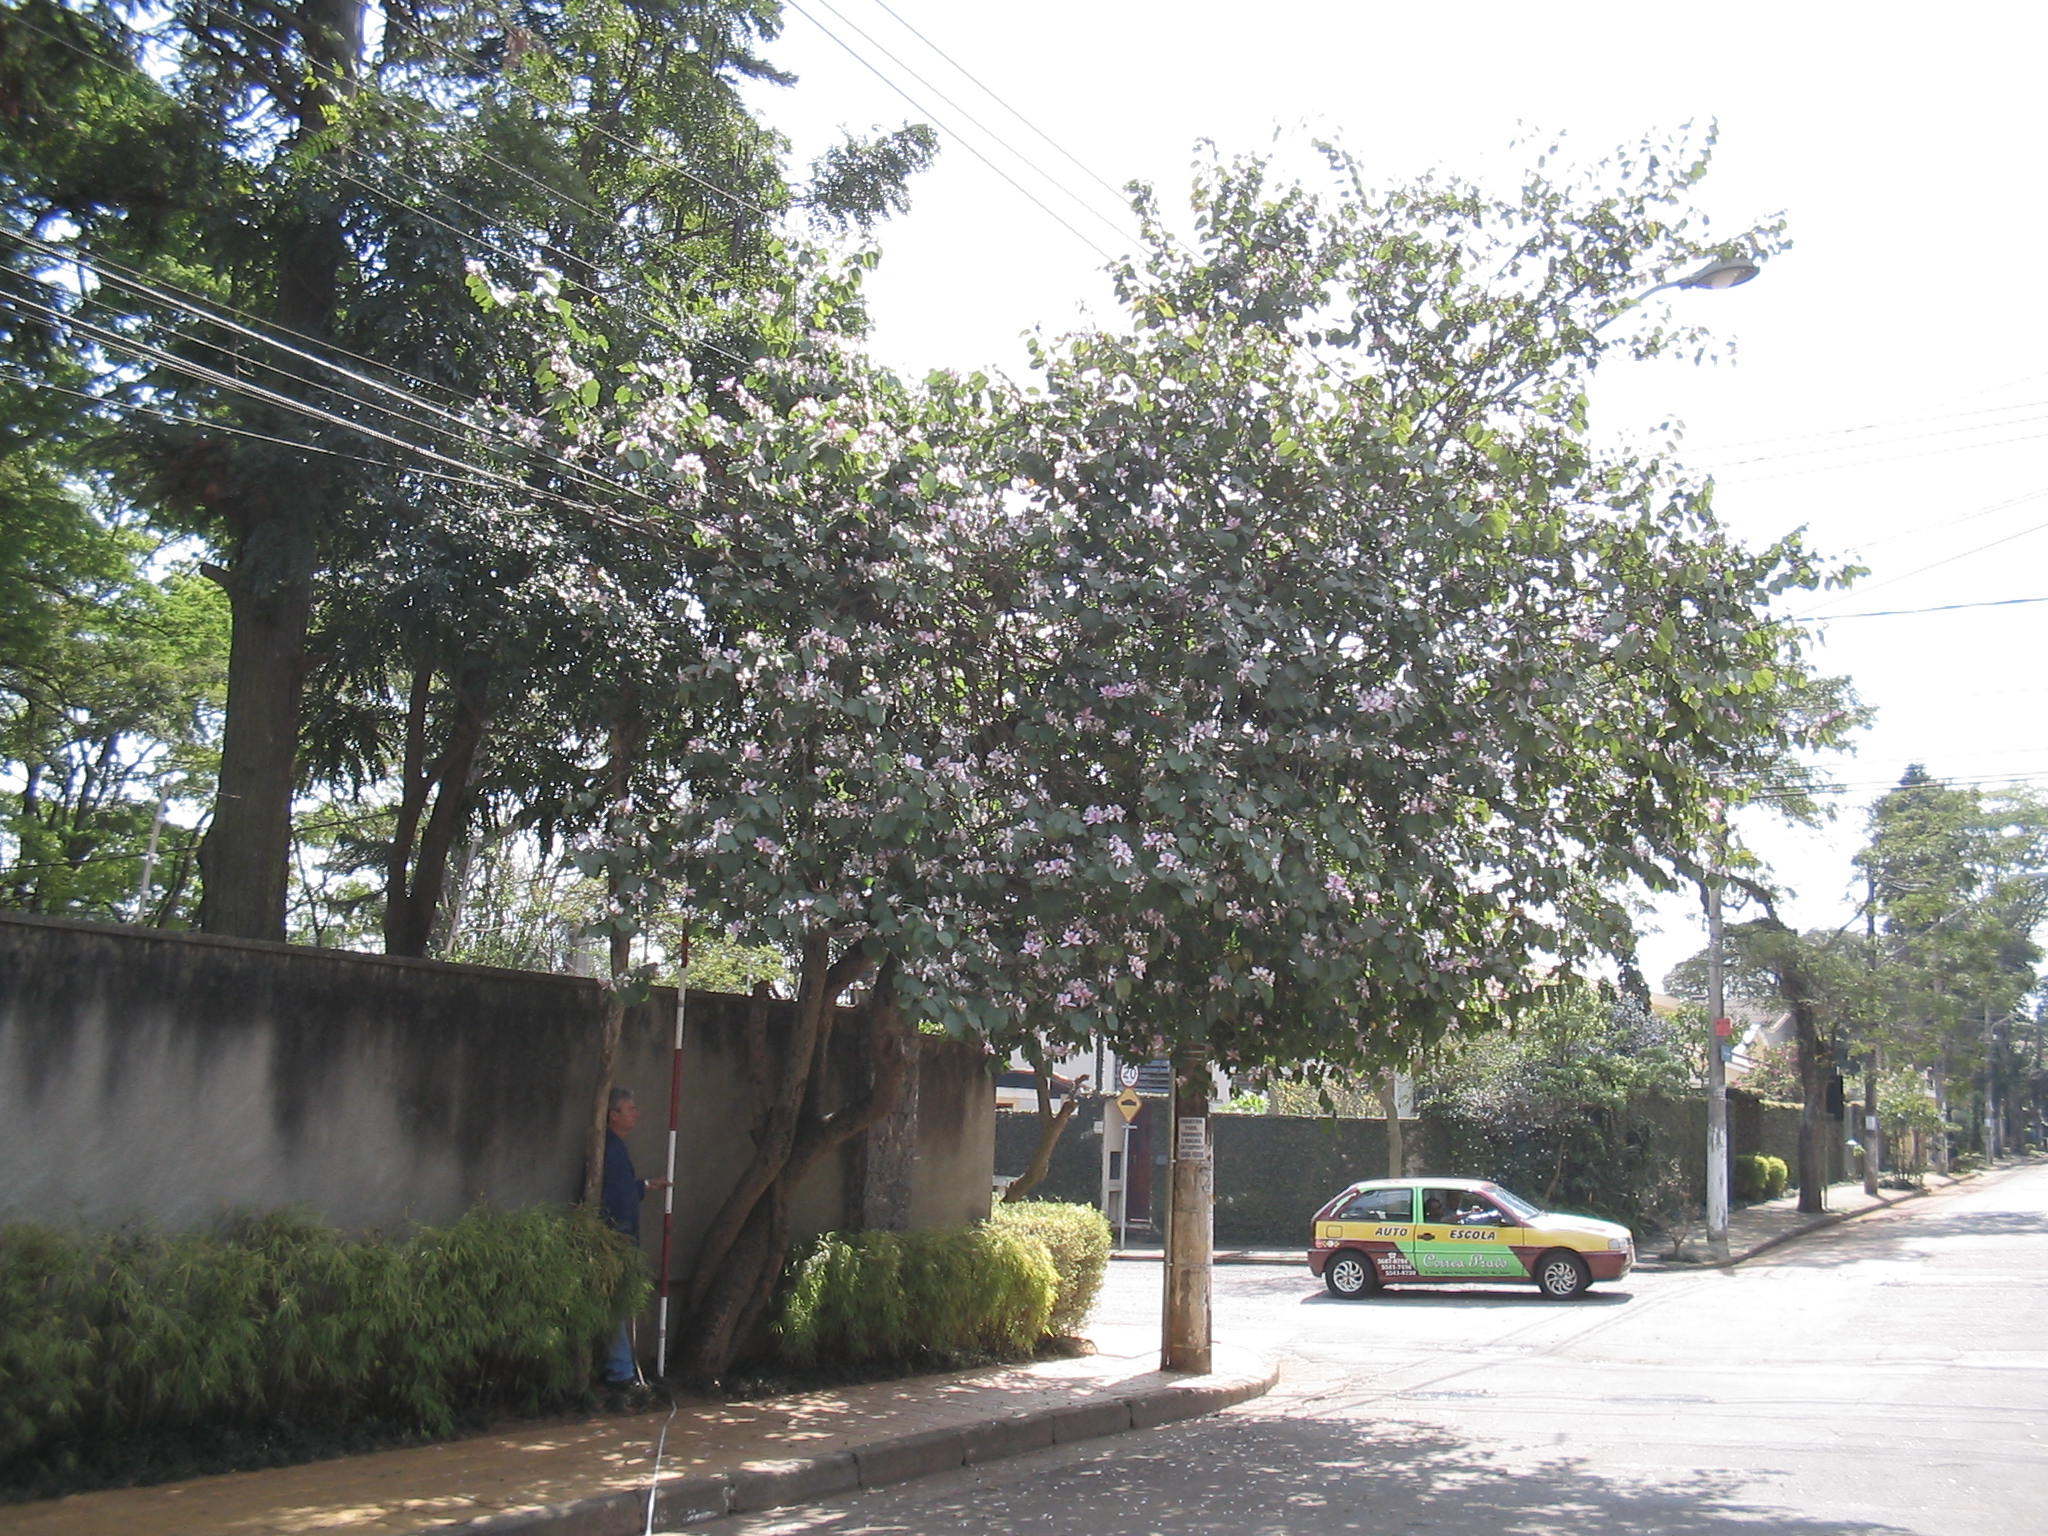crown: (411, 119, 1867, 1125)
stem: (682, 1157, 808, 1376)
stick: (647, 891, 700, 1384)
tree: (410, 118, 1872, 1379)
